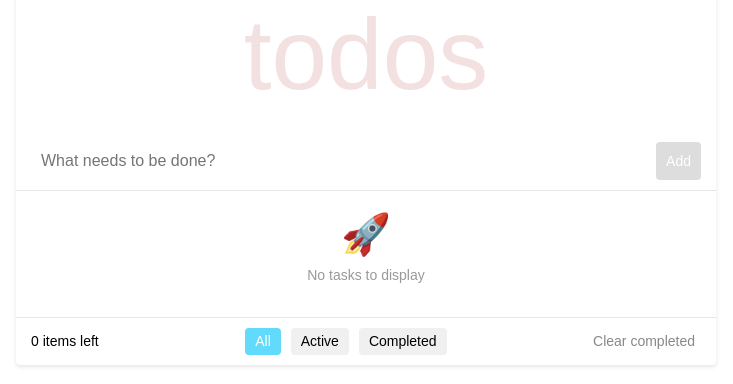
Test: TodoList Component › adds a task when a new task is submitted
Step 1. Type "New Task" into the field with placeholder "What needs to be done?" → (344,161), box [31, 142, 656, 180]
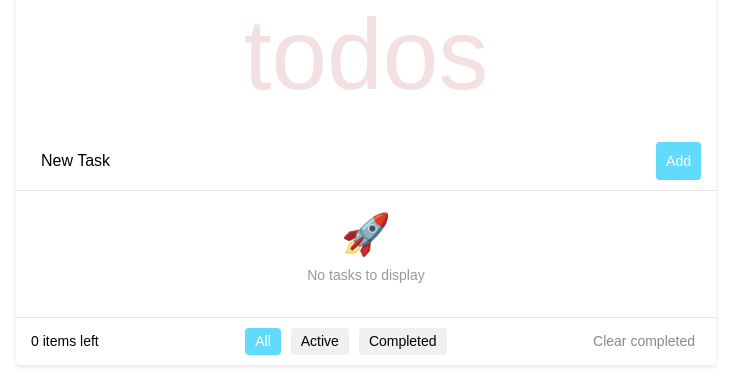
Step 2. Click the button "Add" → (679,161), box [656, 142, 701, 180]
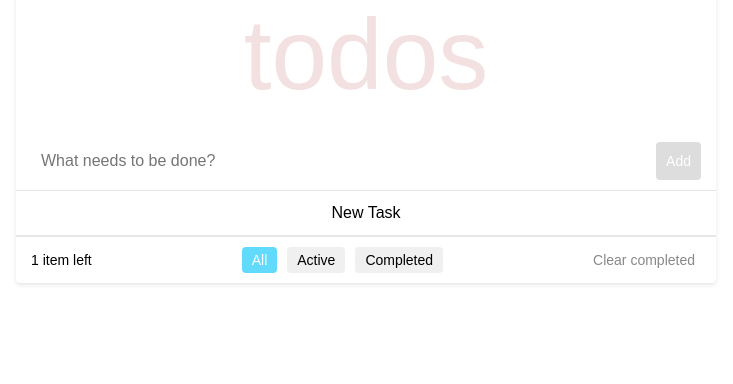
Now the list item "New Task" is shown, box [16, 191, 716, 236]
